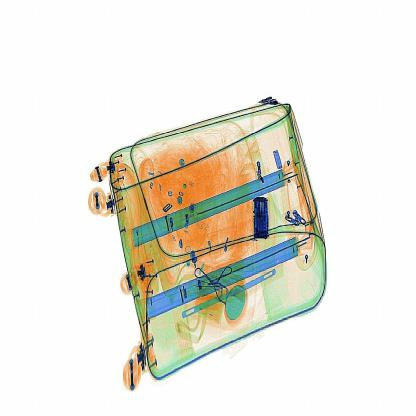scissors: (246, 187, 275, 253)
